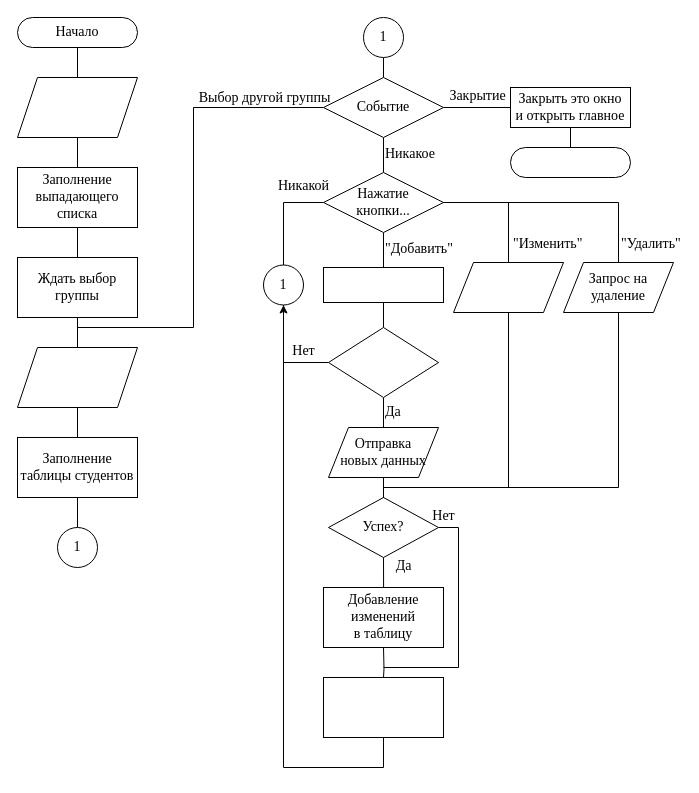
This 699x793 diagram has some shape labels left out. The centre of each missing label's shape, as x and y in pixels:
Вывод сообщения: the point at 383,707
Запрос на список групп: the point at 77,107
Запрос на список студентов в группе: the point at 77,377
Конец: the point at 570,162
Открытие формы: the point at 383,284
Отправка изменений: the point at 508,287
Форма заполнена?: the point at 383,362
